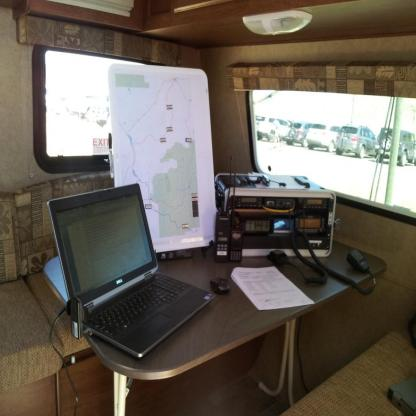board: (47, 184, 213, 357)
